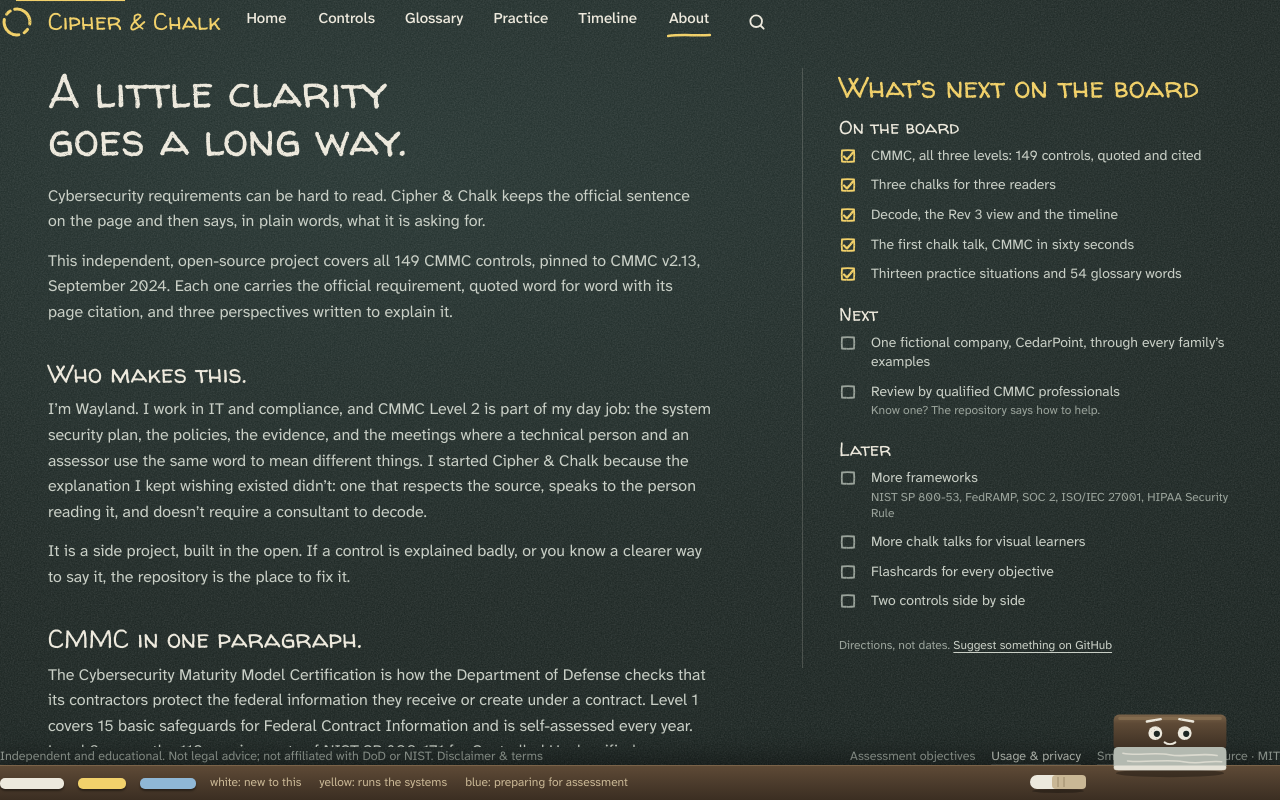
the doodle chalk › is a button in the tray, pressed while the chalk is up, with the layer there while it is
Check: the element named "Doodle chalk" is shown, box [0,766,1279,799]
Check: the text "Independent and educational" is shown, box [0,748,434,764]
Click the button named "Doodle chalk" at (1059,778), box [1028,756,1090,799]
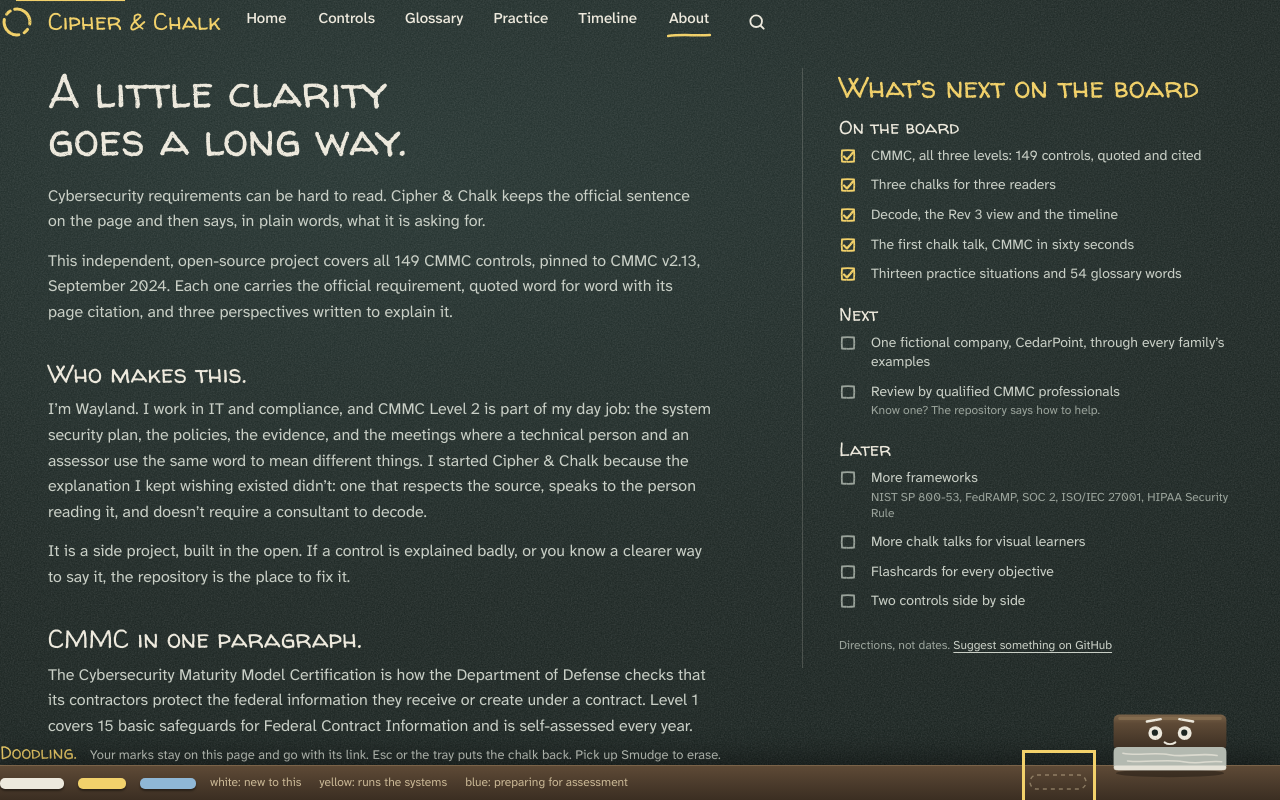
Check: the message with class "footer-doodling" shows "Doodling. Your marks stay on this page and go with its link. Esc or the tray puts the chalk back. Pick up Smudge to erase.", box [0,739,721,766]
Check: the text "Independent and educational" is gone
Check: the link "Assessment objectives" is gone
Click the button named "Doodle chalk" at (1059,778), box [1028,756,1090,799]
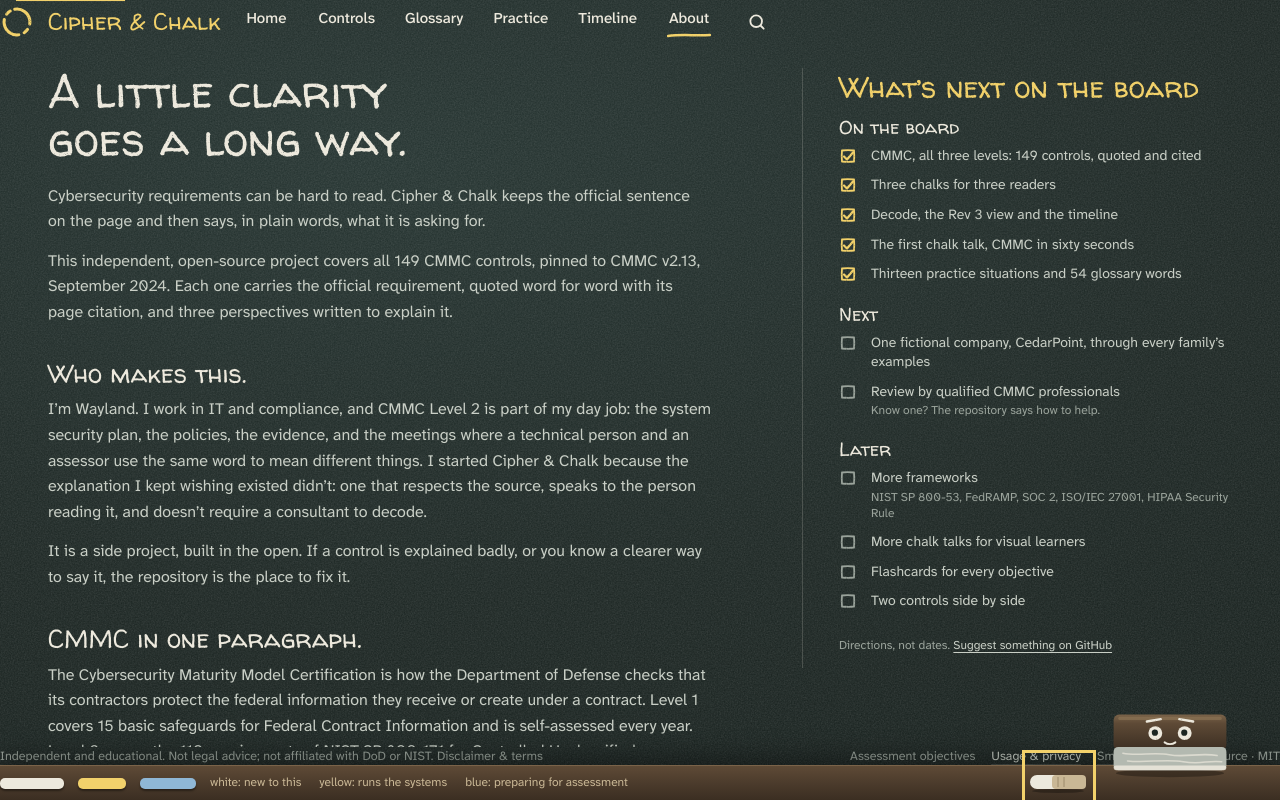
Check: the text "Independent and educational" is shown, box [0,748,434,764]
